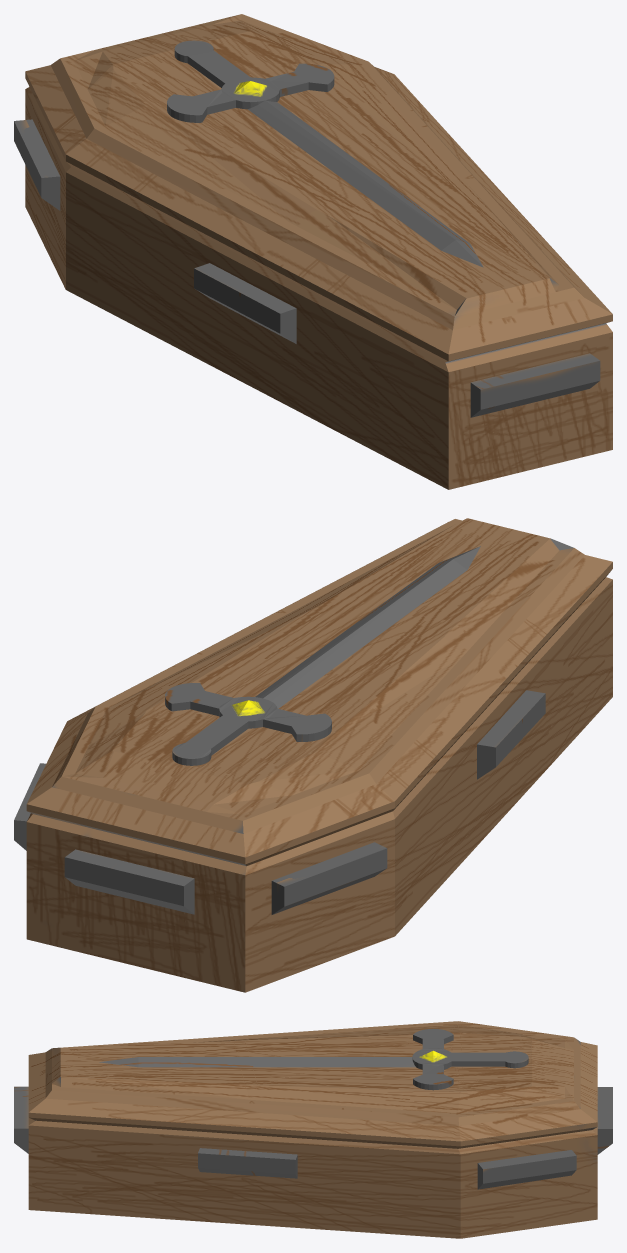
The model's file is coffin_1.fbx.
The picture shows the model from 3 angles, top to bottom: view 1: azimuth 30°, elevation 25°; view 2: azimuth 150°, elevation 25°; view 3: azimuth 270°, elevation 25°; orthographic projection. The views are drawn at different scales.
Visible parts, largest first — view 1: Redbrand_coffin; view 2: Redbrand_coffin; view 3: Redbrand_coffin.
Boxes of the visible parts, x1,y1,x2,y2 form: Redbrand_coffin: (14,14,612,489); Redbrand_coffin: (14,518,612,992); Redbrand_coffin: (14,1021,612,1238).
Bounding box in the file's own units: 2343 × 1173 × 4855.
Materials: 1 (1 with a texture image).
